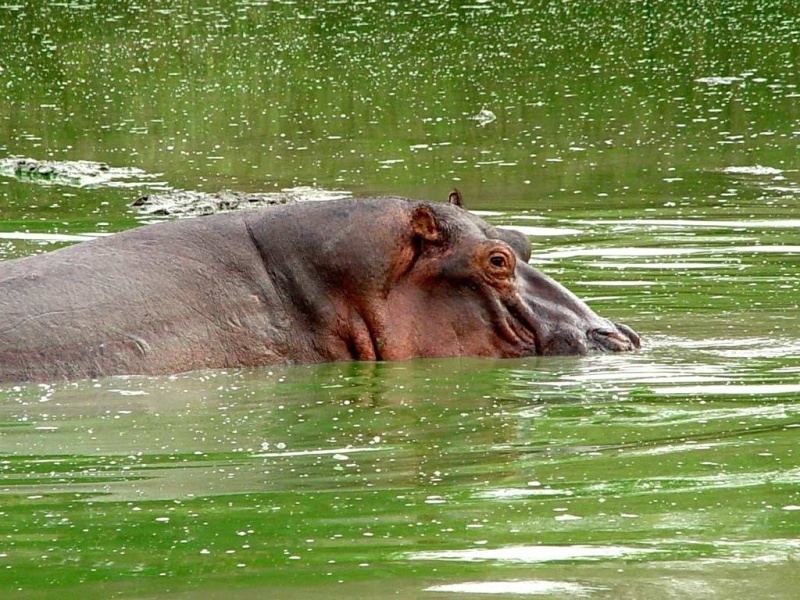hipopotamo: (1, 175, 658, 393)
